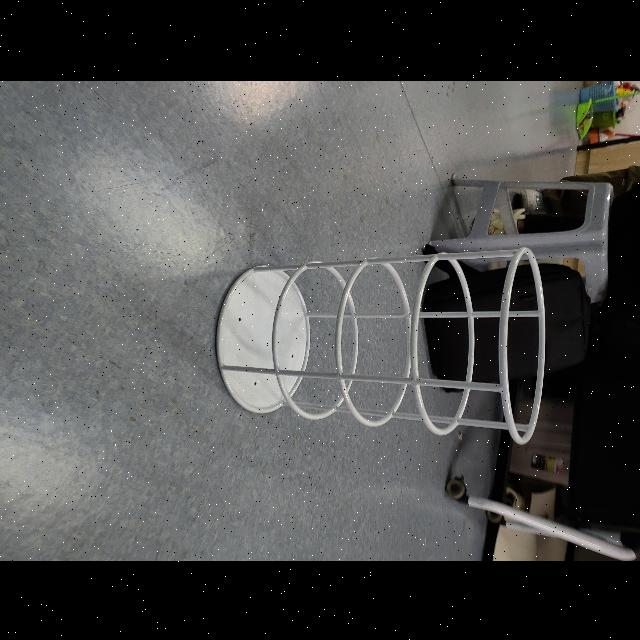S: (210, 245, 548, 447)
